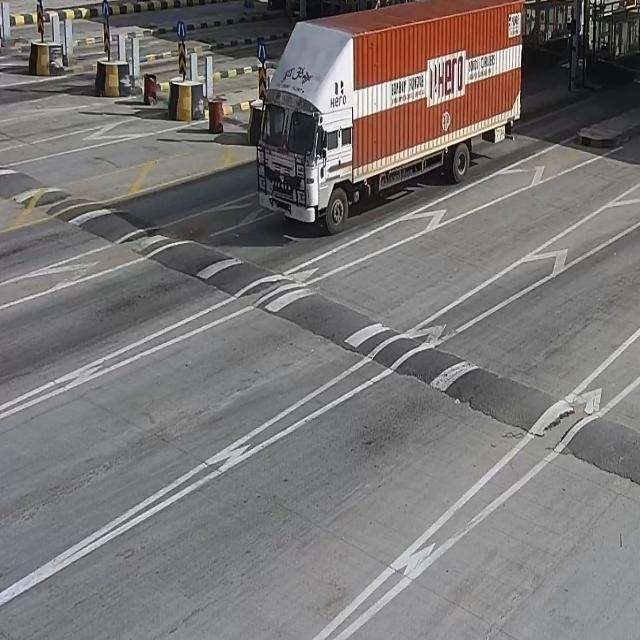truck: (249, 15, 537, 224)
